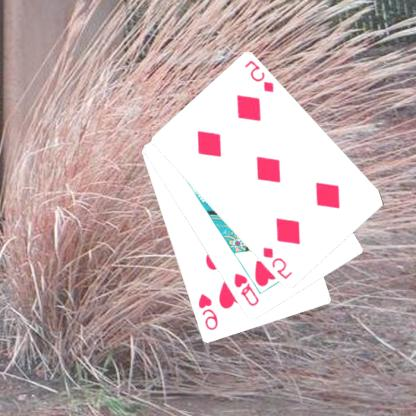5D: (243, 57, 278, 94), (262, 244, 296, 281)
9H: (197, 291, 221, 332)
QH: (232, 271, 262, 308)
